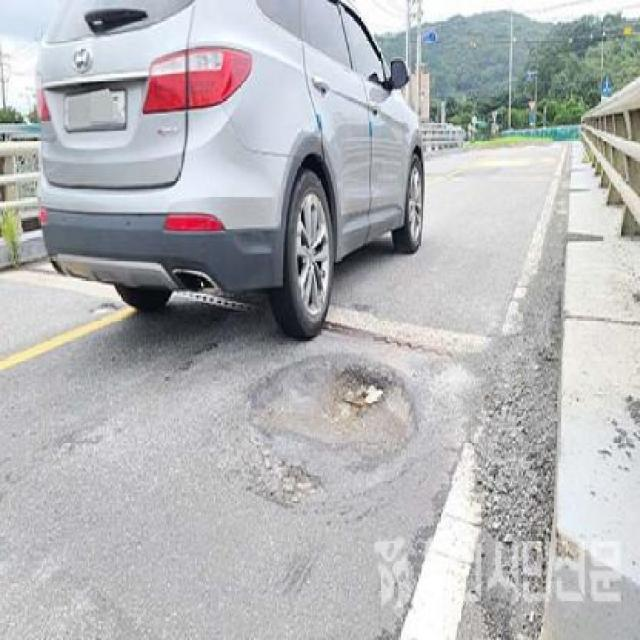Pothole: (238, 350, 419, 479)
